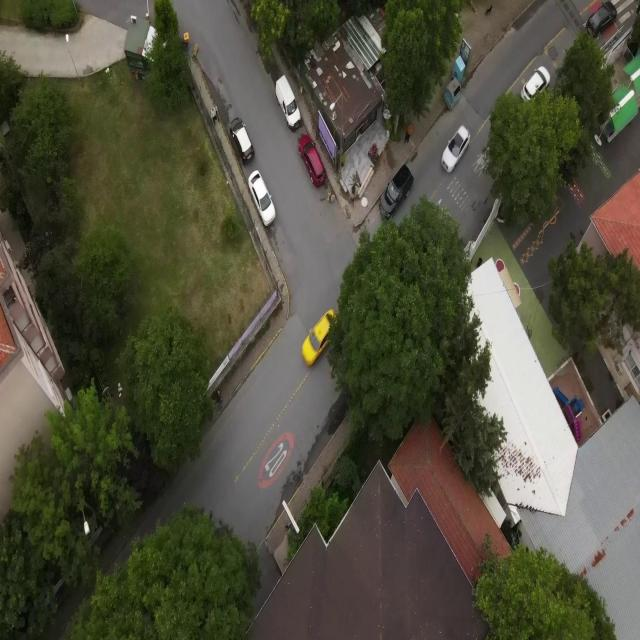p3rson: (216, 389, 223, 407), (211, 107, 216, 126), (215, 106, 220, 122)
